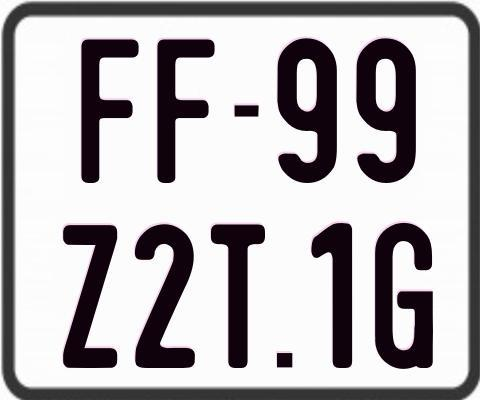1: (308, 220, 351, 370)
2: (132, 221, 195, 365)
9: (354, 35, 420, 184), (276, 36, 339, 186)
F: (157, 37, 217, 184), (80, 38, 141, 182)
G: (374, 223, 435, 375)
T: (211, 221, 269, 366)
Z: (63, 224, 123, 370)
